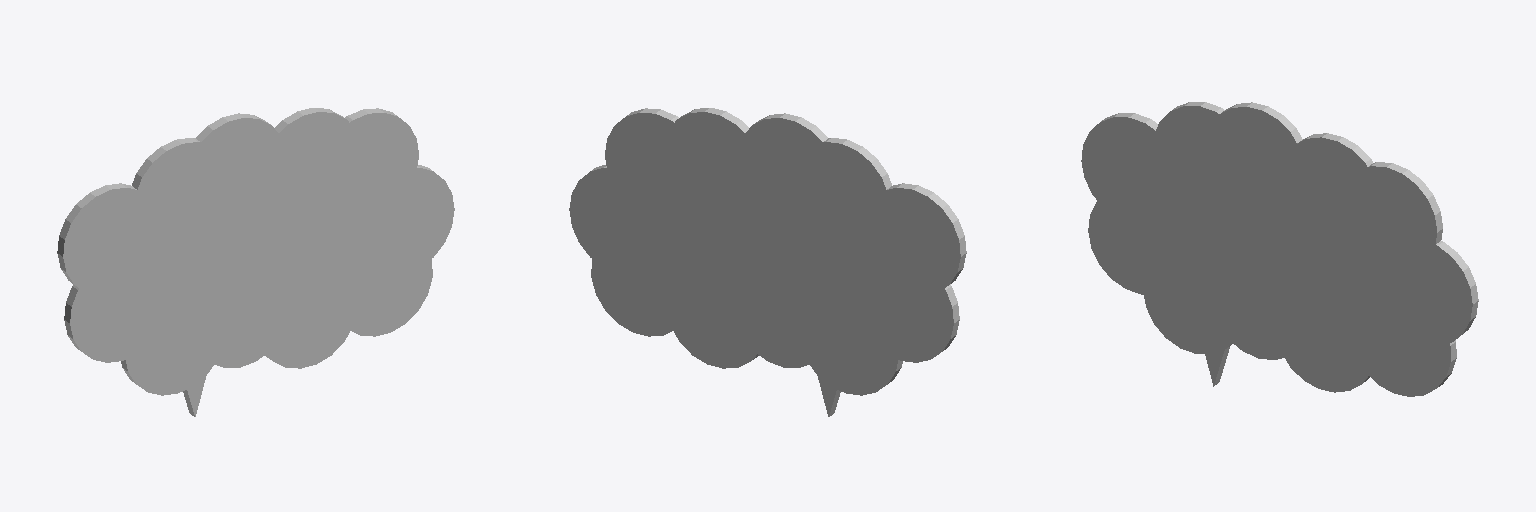
The model's file is thinkingmodel4.obj.
3 views of the same model, side by side, from view 1: azimuth 30°, elevation 25°; view 2: azimuth 150°, elevation 25°; view 3: azimuth 330°, elevation 25° (orthographic).
Visible parts, largest first — view 1: obj_0; view 2: obj_0; view 3: obj_0.
Boxes of the visible parts, <box> form: obj_0: <box>57,108,454,416</box>; obj_0: <box>569,108,966,416</box>; obj_0: <box>1081,102,1478,396</box>.
Bounding box in the file's own units: 77.35 × 54.39 × 2.